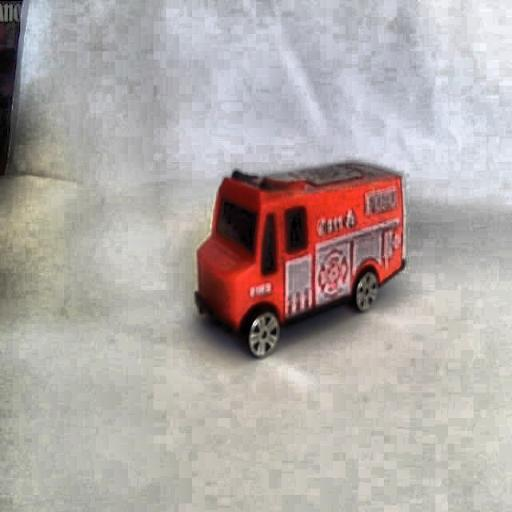fire_truck: (190, 157, 408, 358)
